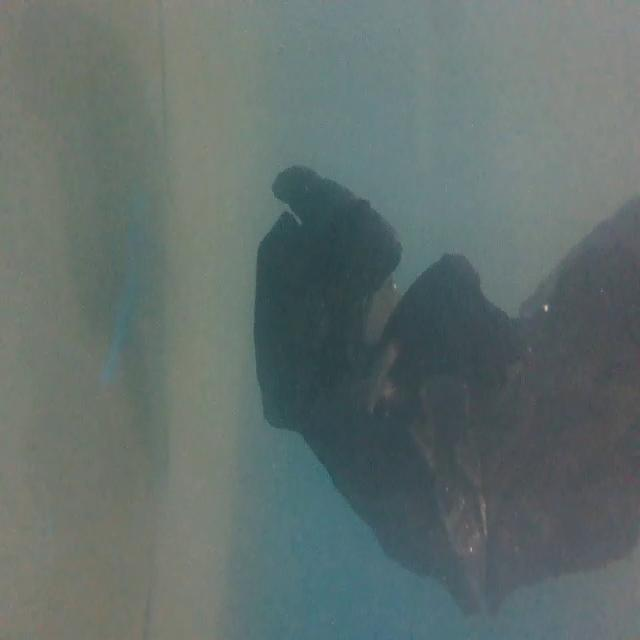plastic bags: (254, 152, 640, 623)
